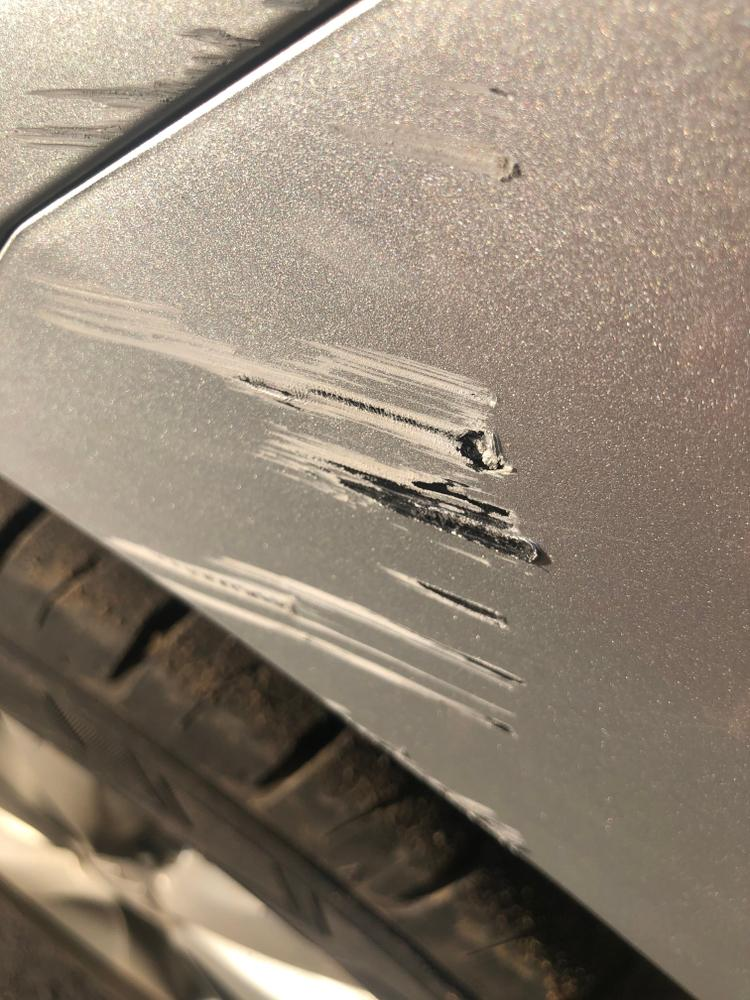scratch: (19, 264, 566, 862)
